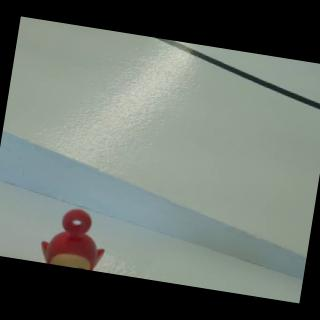teletubby: (42, 209, 104, 270)
